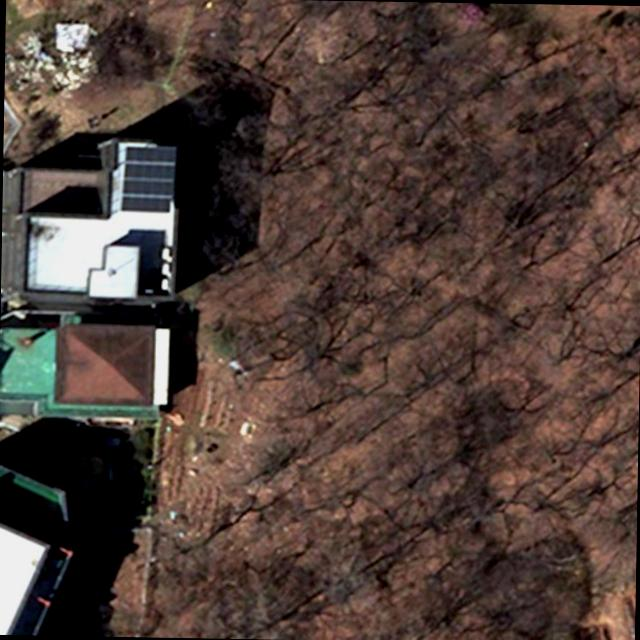solar: (118, 144, 178, 214)
